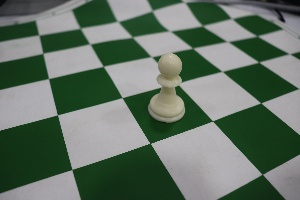white_pawn: (139, 37, 193, 131)
